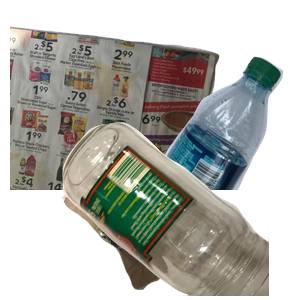glass: (60, 120, 300, 300)
paper: (10, 21, 222, 201)
plastic: (142, 54, 300, 234)
trash: (59, 124, 273, 300)
